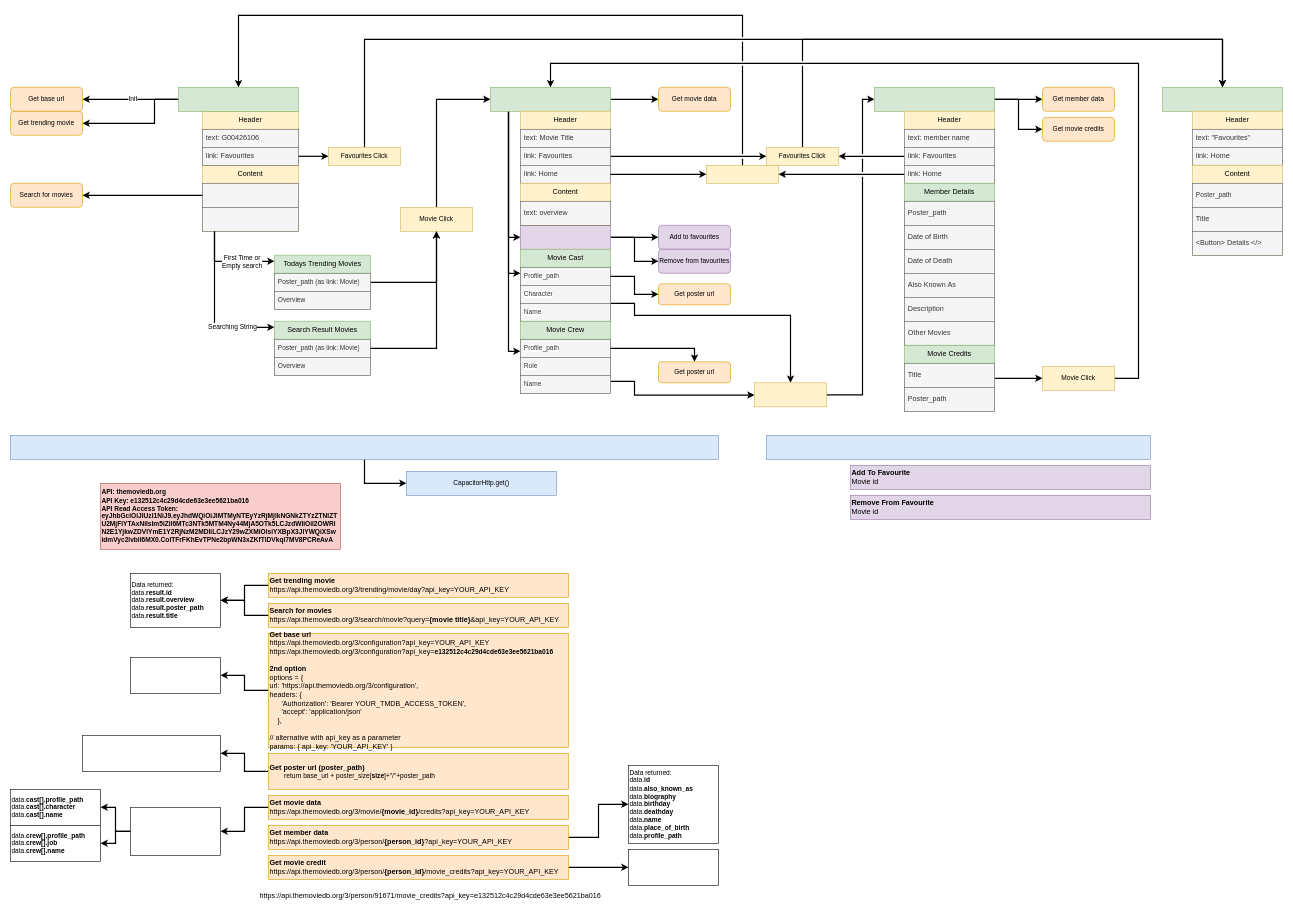
Some shapes in this 1293 by 919 pixel diagram are drawn without their labels. Each missing label, with the centre of its shape:
Add To/Remove from Favourites: (565,237)
Data returned base_url + poster_size[ size ]+"/"+poster_path: (151,753)
Data returned: data. cast[].id data. cast[] data. crew[].id data. crew[]: (175,831)
Data returned: data. images.base_url data. images.poster_sizes: (175,675)
Data returned: data[]. cast[].id data[]. cast[].title data[]. cast[].poster_path: (673,867)
Details Page: (934,99)
Favorites: (1222,99)
Home Click: (742,174)
Home Page: (238,99)
Main Content: (250,219)
Member Click: (790,394)
Movie Detail Page: (550,99)
search: input box search: button: (250,195)
Service CapacitorHttp.get() GetMovieData: (364,447)
Service Storage StoreData: (958,447)
